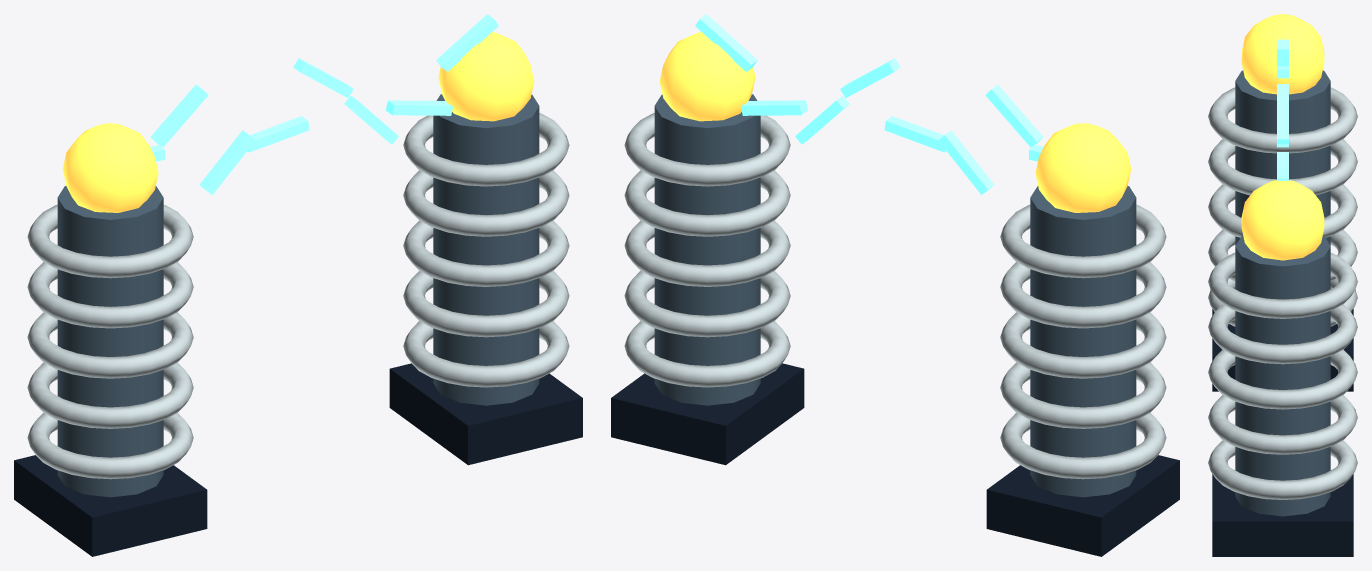
The model's file is device-arc.glb.
3 views of the same model, side by side, from view 1: azimuth 30°, elevation 25°; view 2: azimuth 150°, elevation 25°; view 3: azimuth 270°, elevation 25° (orthographic). The views are drawn at different scales.
Parts seen in each view (by area): view 1: insulator-fin (×10), capacitor (×2), capacitor-base (×2), electrode (×2), arc-segment (×7); view 2: insulator-fin (×10), capacitor (×2), capacitor-base (×2), electrode (×2), arc-segment (×7); view 3: insulator-fin (×10), capacitor (×2), electrode (×2), capacitor-base (×2), arc-segment (×3).
Part boxes in pixels (x1,y1,x2,y2): insulator-fin (×10): (27, 113, 569, 479); capacitor (×2): (57, 94, 539, 497); capacitor-base (×2): (14, 363, 582, 556); electrode (×2): (62, 32, 534, 212); arc-segment (×7): (150, 14, 498, 194); insulator-fin (×10): (624, 113, 1166, 479); capacitor (×2): (654, 94, 1136, 497); capacitor-base (×2): (611, 363, 1179, 556); electrode (×2): (659, 32, 1131, 212); arc-segment (×7): (695, 14, 1043, 194); insulator-fin (×10): (1208, 87, 1357, 499); capacitor (×2): (1235, 70, 1330, 516); electrode (×2): (1241, 14, 1324, 260); capacitor-base (×2): (1212, 309, 1353, 556); arc-segment (×3): (1277, 39, 1288, 168).
Bounding box in the file's own units: 2.49 × 1.86 × 0.69.
